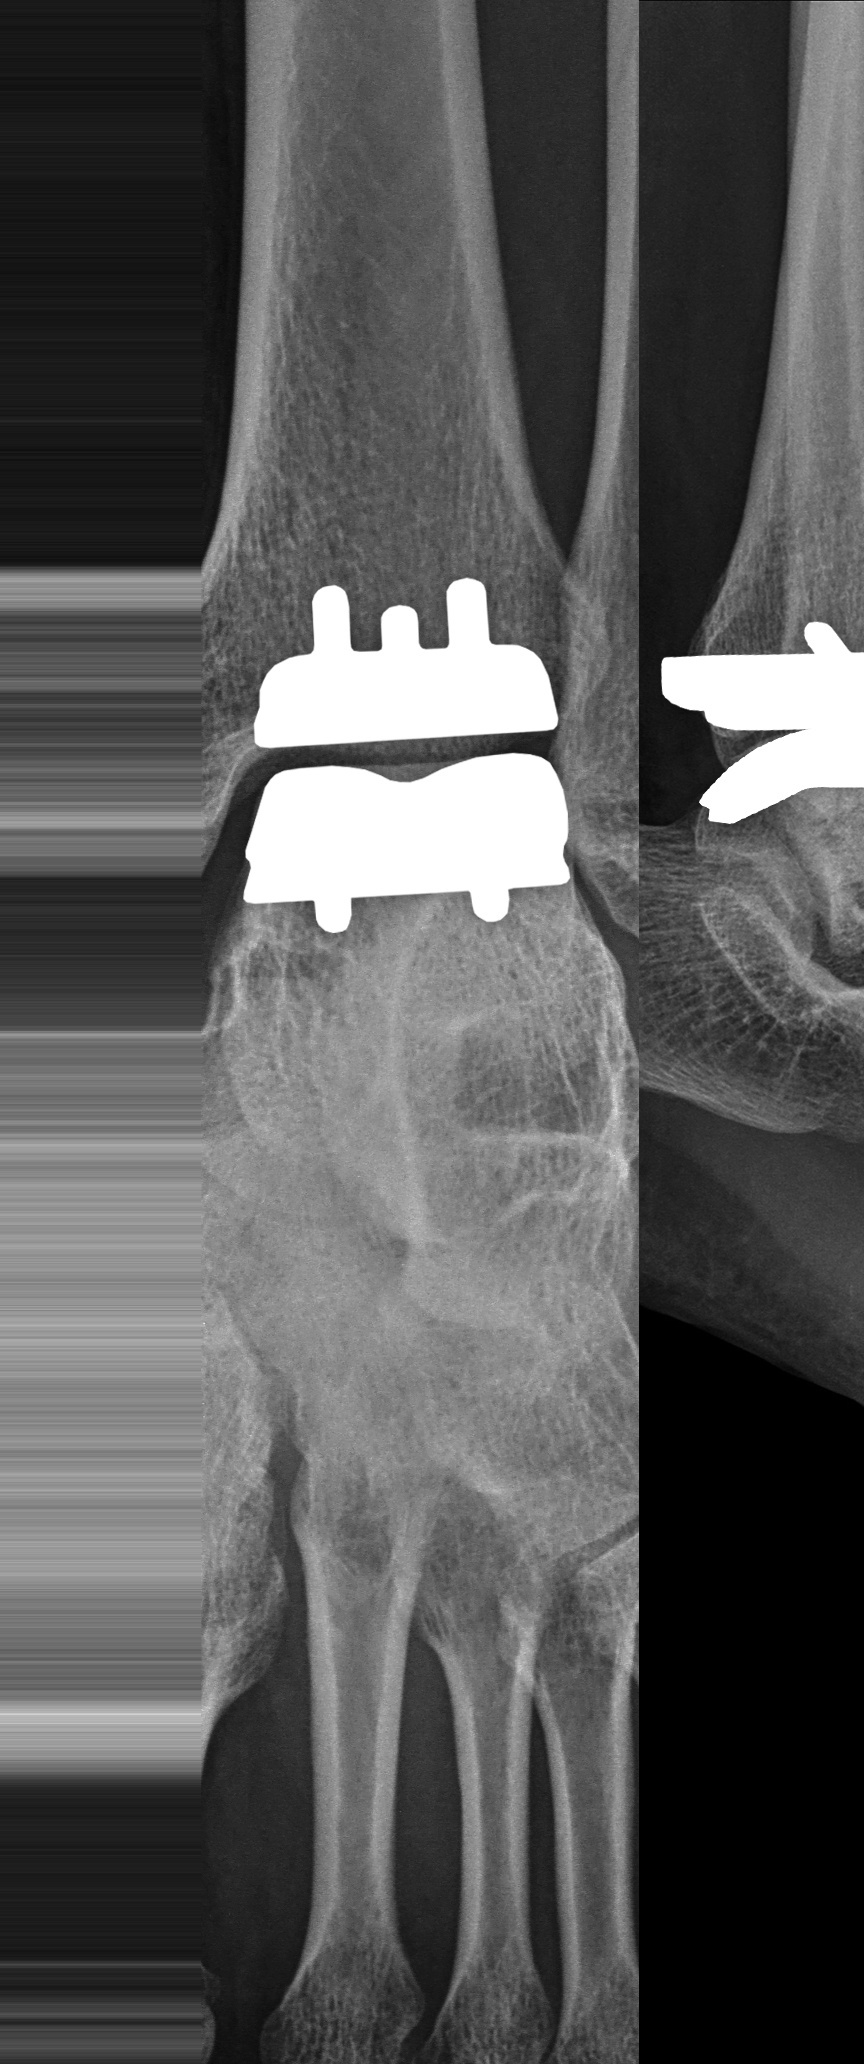Ankle - Infinity - Wright: (230, 566, 580, 940), (645, 608, 864, 836)
